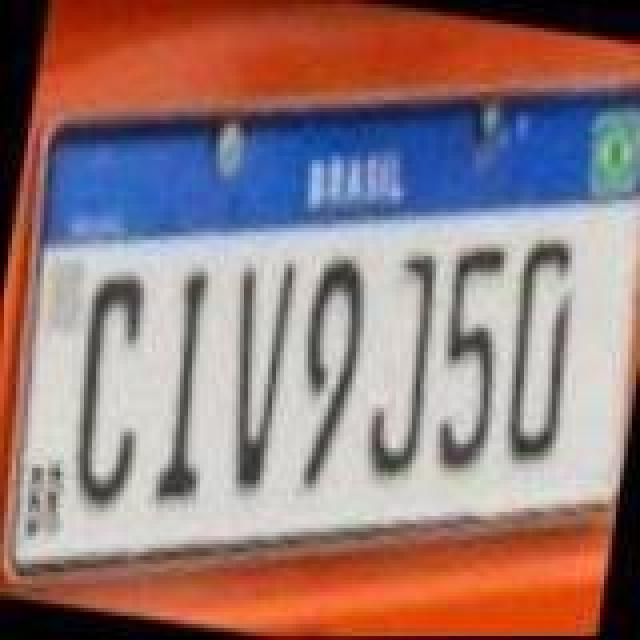5: (416, 238, 516, 474)
9: (280, 254, 372, 494)
C: (58, 266, 162, 510)
D: (488, 230, 584, 466)
I: (148, 264, 232, 508)
J: (358, 246, 446, 482)
V: (208, 248, 300, 488)
